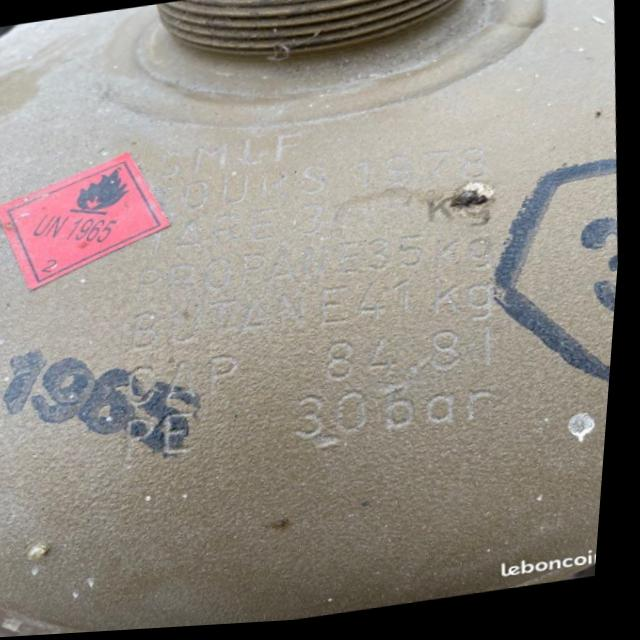ocr: (76, 101, 541, 488)
